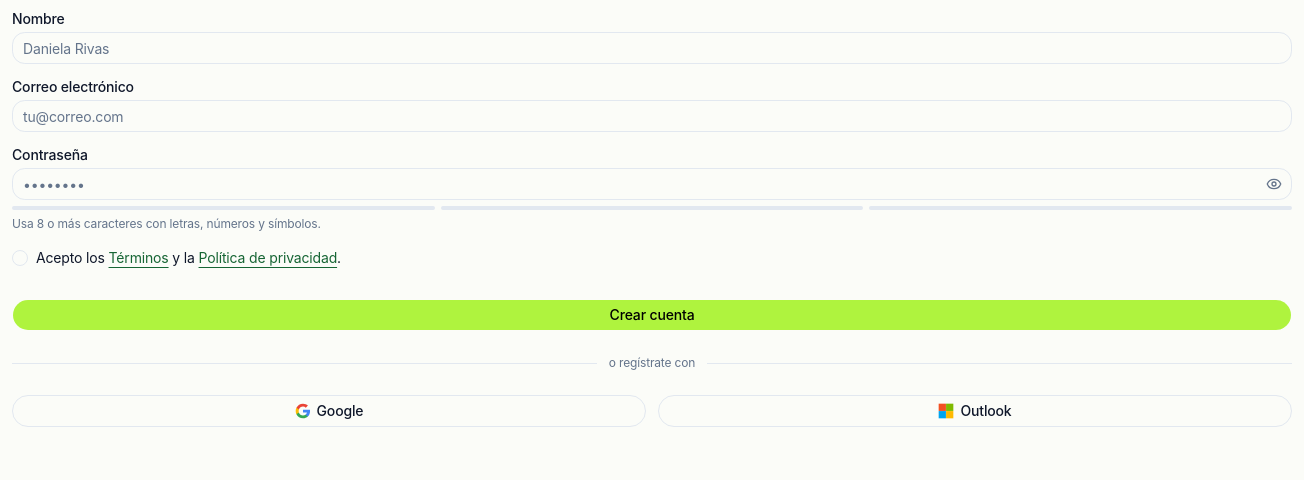
Test: auth password error handling › resets a missing Clerk sign-up attempt and lets the user retry
Type "Ana" into the field labelled "Nombre" at point(652, 48), box [12,32,1292,64]
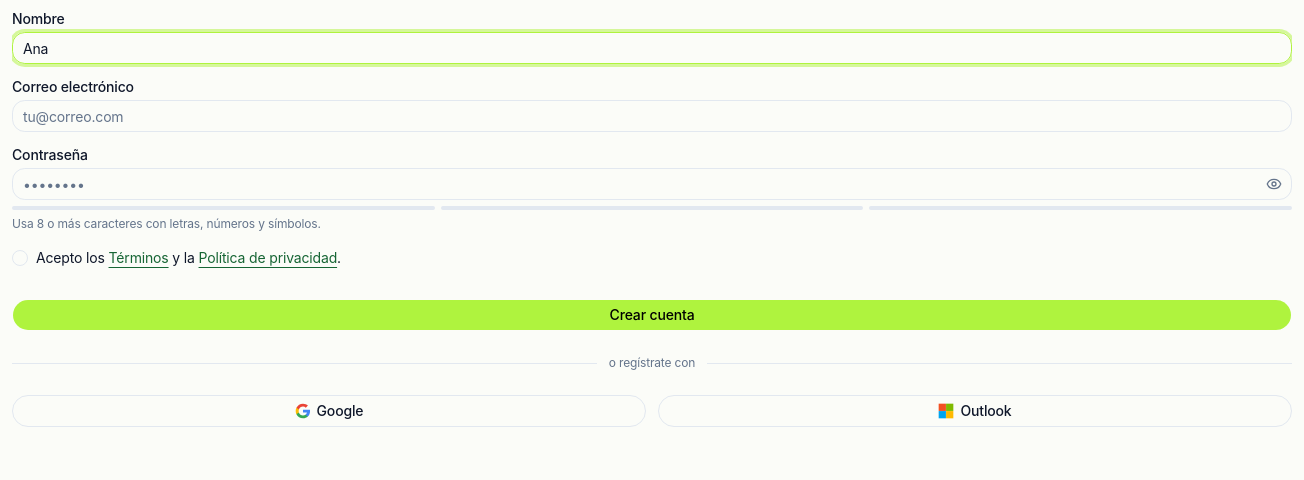
Type "ana@example.com" into the field labelled "Correo electrónico" at point(652, 116), box [12,100,1292,132]
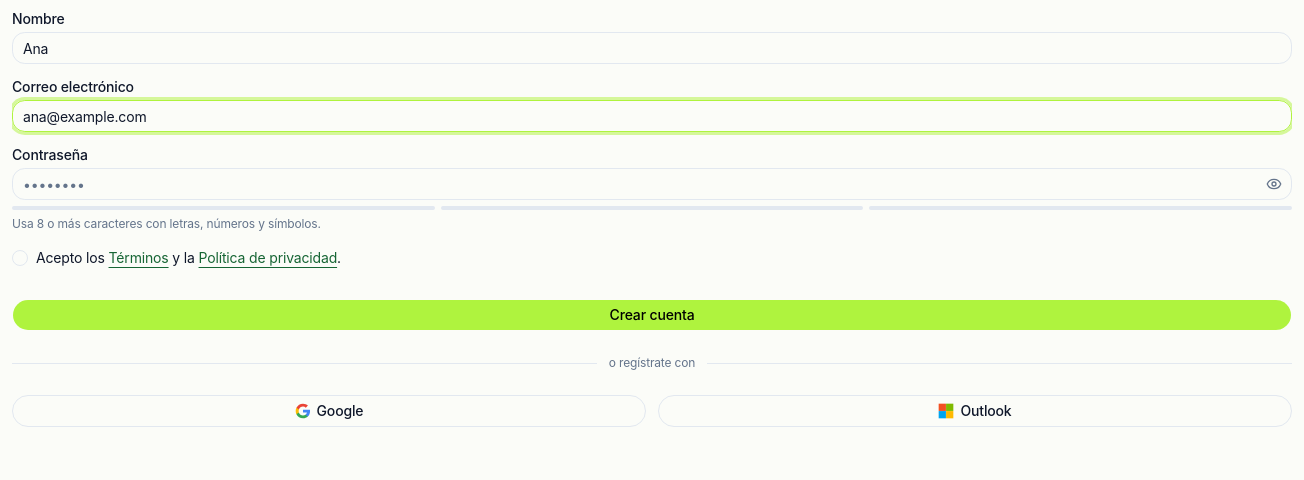
Type "secreto12" into the password field labelled "Contraseña" at point(652, 184), box [12,168,1292,200]
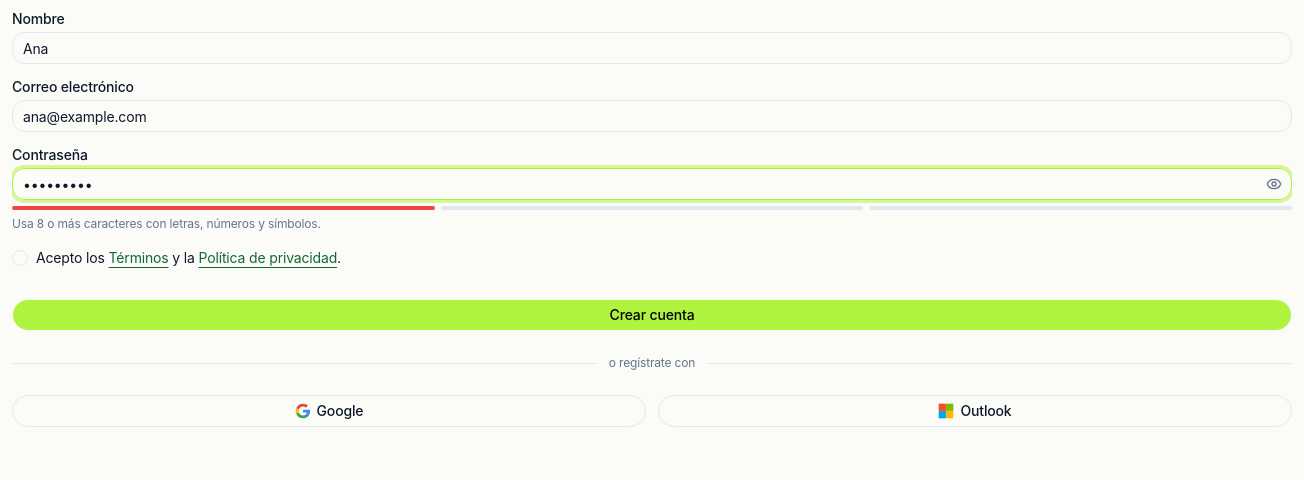
Click the checkbox named "acepto los términos" at point(20, 258), box [12,250,28,266]
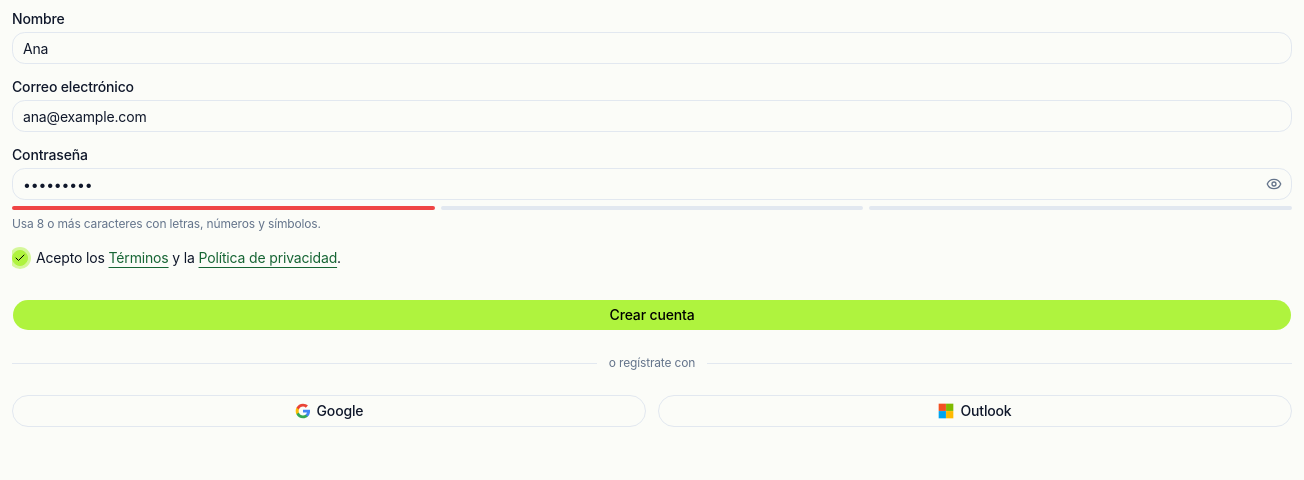
Click the button "Crear cuenta" at point(652, 315), box [12,299,1292,331]
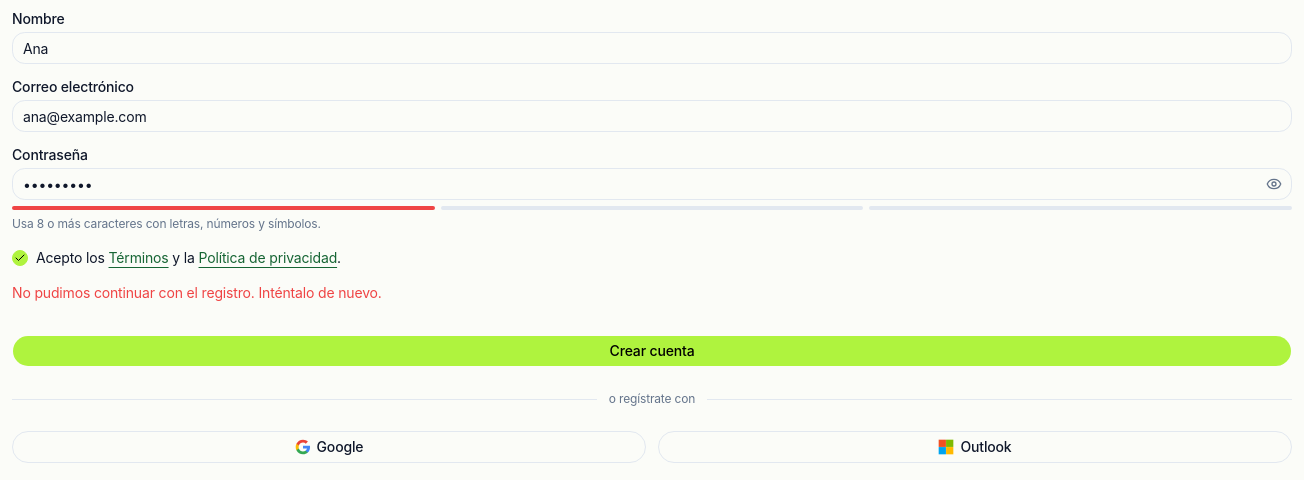
Expected: the button "Crear cuenta" is shown, [12,335,1292,367]
Expected: the text "No pudimos continuar con el registro. Inténtalo de nuevo." is shown, [12,284,382,301]
